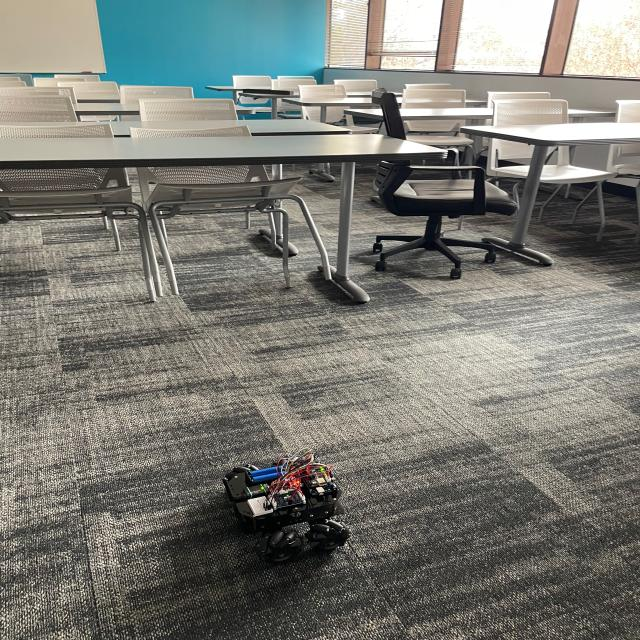ArduinoCar: (219, 448, 352, 564)
